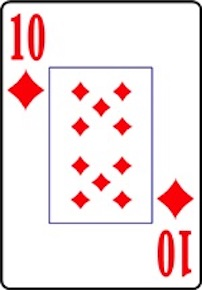TenOfDiamonds: (1, 2, 202, 290)
